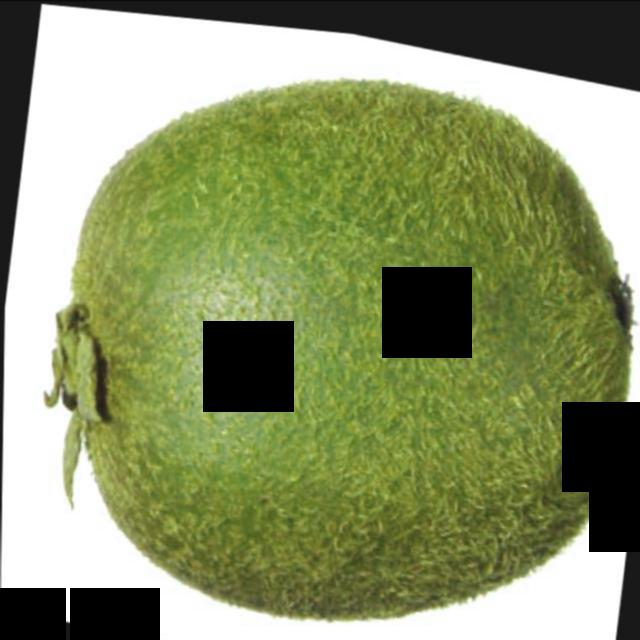kiwi: (24, 15, 640, 640)
